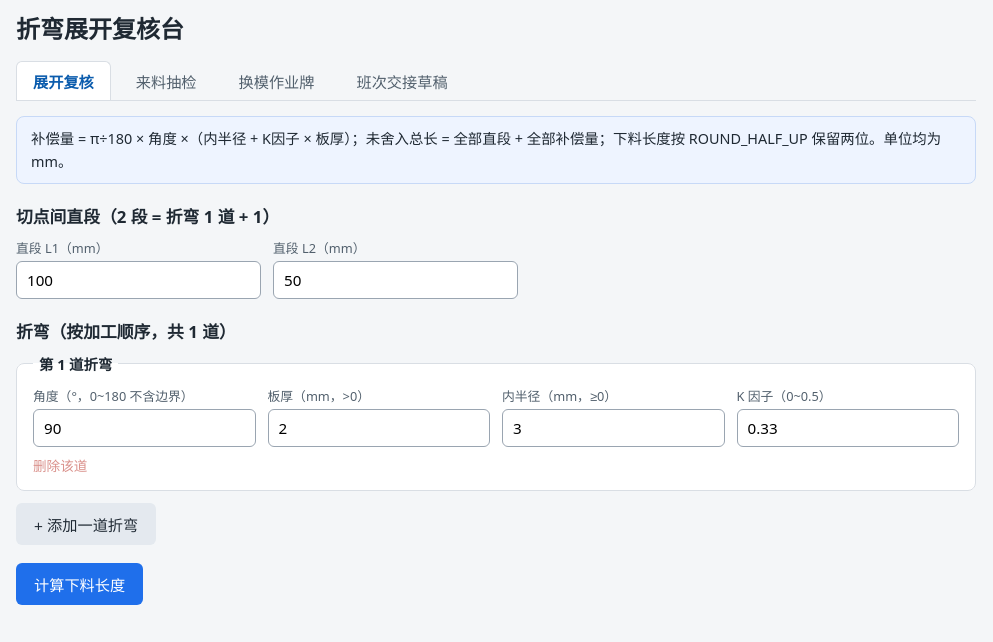
换模作业牌视图 › 非持有人归还收到 412：显示持有人不匹配原因，作业牌保持占用
The image size is (993, 642).
Click the tab "换模作业牌" at (276, 81), box [222,61,331,100]
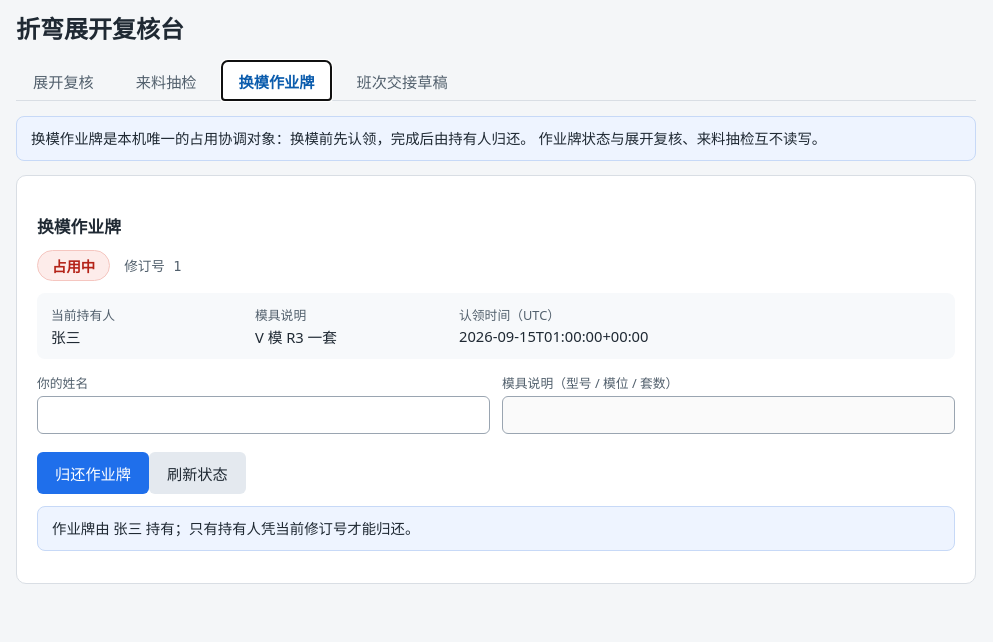
Now the text "占用中" is shown, box [37,250,110,281]
Type "李四" into the field labelled "你的姓名" at (264, 415), box [37,396,490,434]
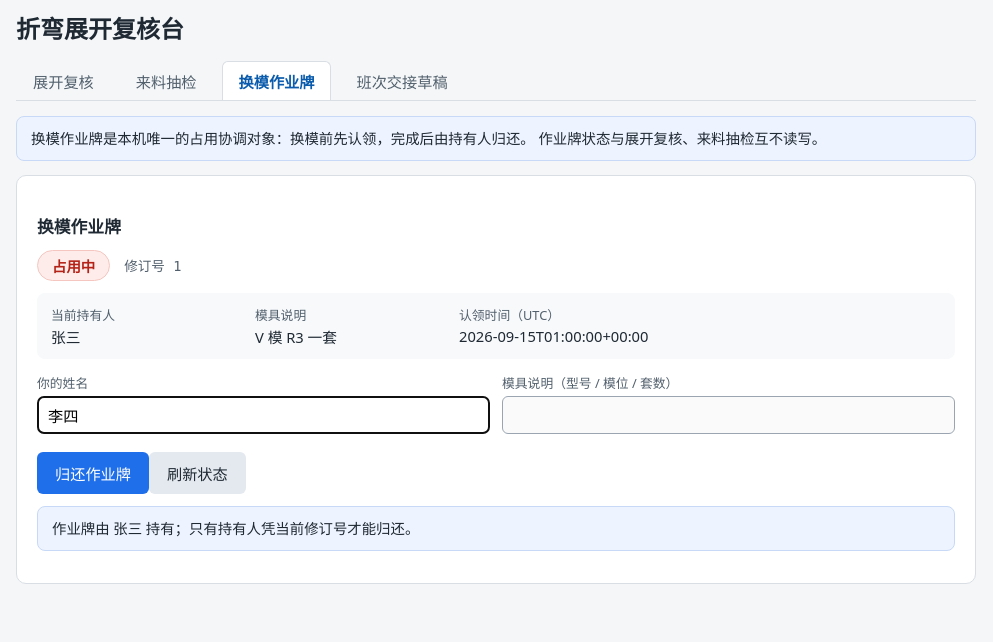
Click the button with test id "board-release" at (93, 473), box [37,452,149,494]
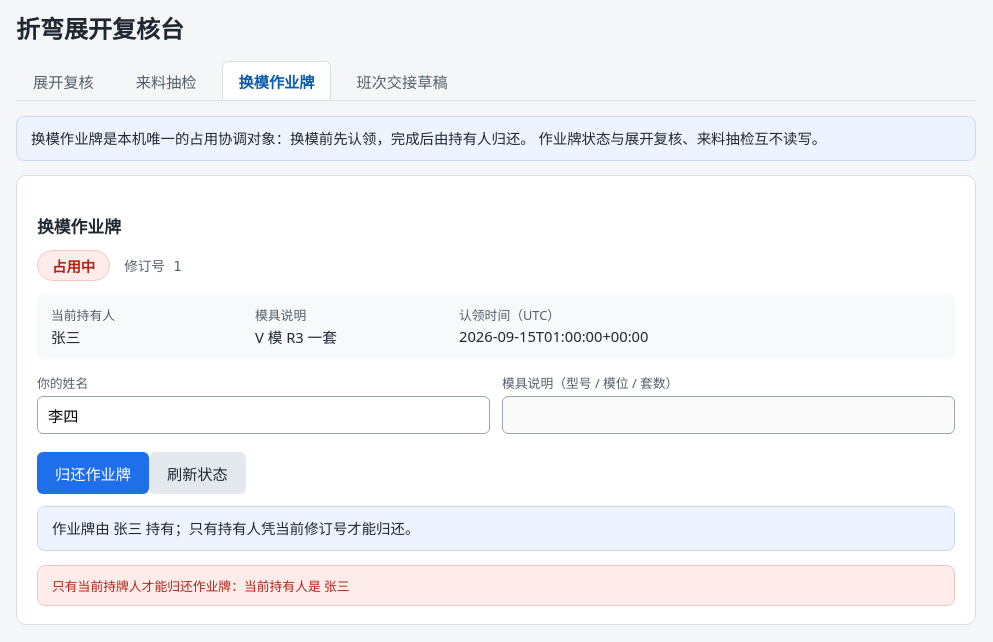
Now the text with test id "board-state" reads "占用中", box [52,257,95,276]
Now the text with test id "board-current-holder" reads "张三", box [51,327,80,347]
Now the message with test id "board-conflict" shows "只有当前持牌人", box [52,577,350,595]
